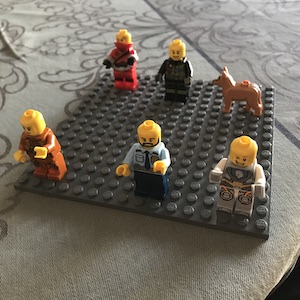Lego: (209, 135, 268, 217), (121, 118, 172, 199), (16, 111, 68, 180), (156, 37, 193, 100), (103, 29, 140, 92)
